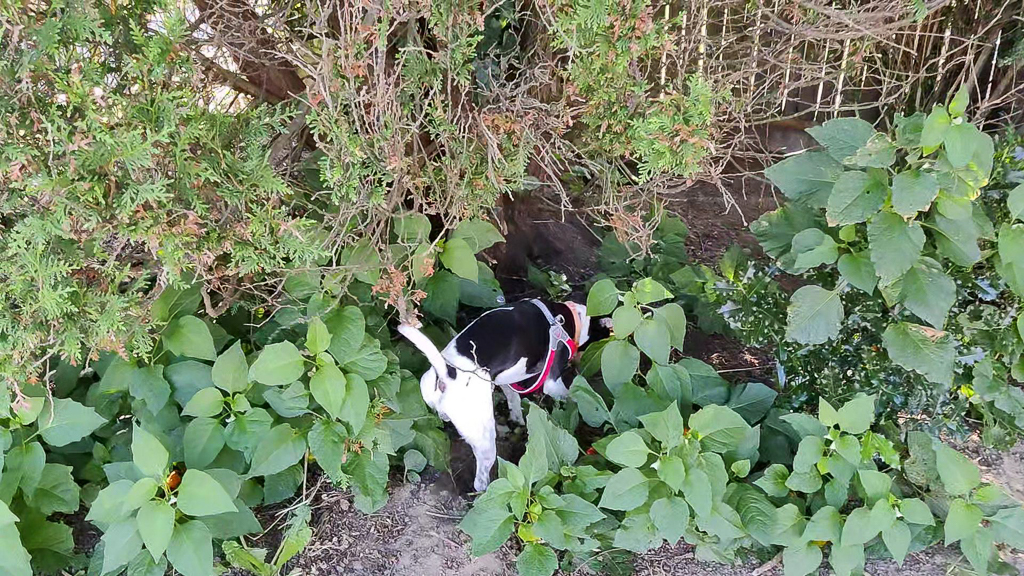Dog: (382, 272, 626, 514)
